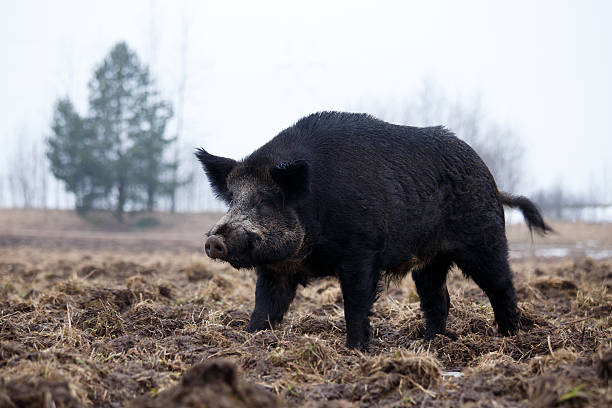pig: (193, 144, 327, 271)
